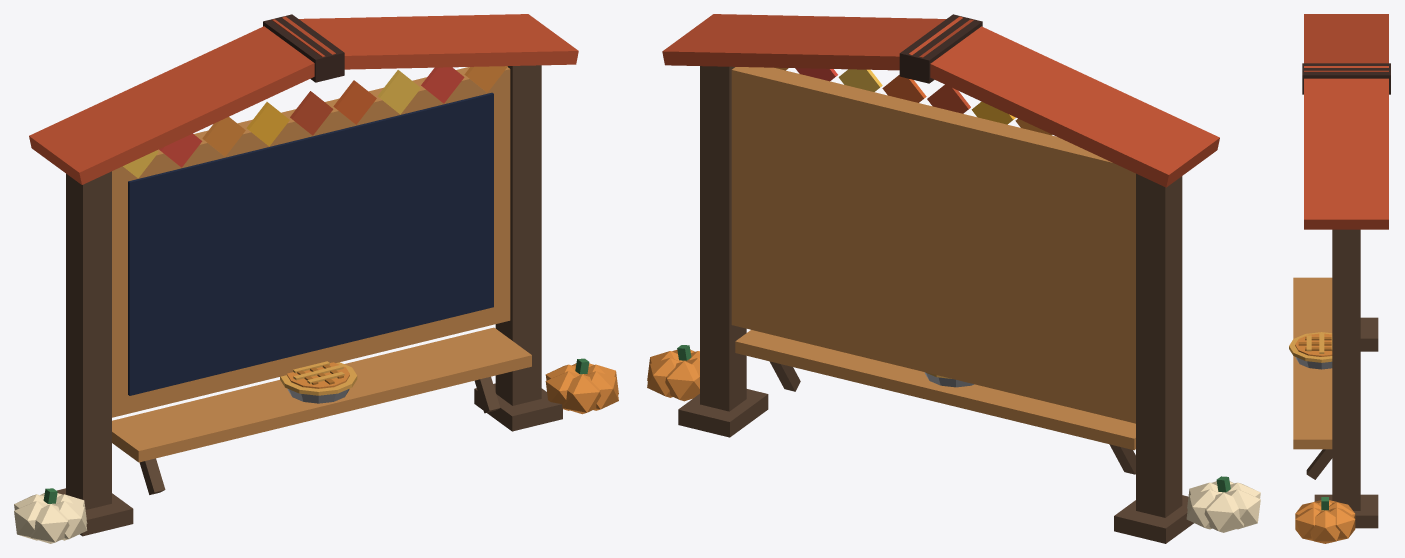
The model's file is CatCafe_Harvest_Board.glb.
3 views of the same model, side by side, from view 1: azimuth 30°, elevation 25°; view 2: azimuth 150°, elevation 25°; view 3: azimuth 270°, elevation 25° (orthographic). The views are drawn at different scales.
Visible parts, largest first — view 1: CatCafe_Harvest_Board, CatCafe_Harvest_Board_Screen; view 2: CatCafe_Harvest_Board; view 3: CatCafe_Harvest_Board.
Part boxes in pixels (x1,y1,x2,y2): CatCafe_Harvest_Board: [14, 14, 618, 543]; CatCafe_Harvest_Board_Screen: [128, 92, 493, 395]; CatCafe_Harvest_Board: [647, 14, 1260, 543]; CatCafe_Harvest_Board: [1289, 14, 1390, 543].
Bounding box in the file's own units: 16.45 × 11.22 × 2.87.
1 material, 1 textured.
